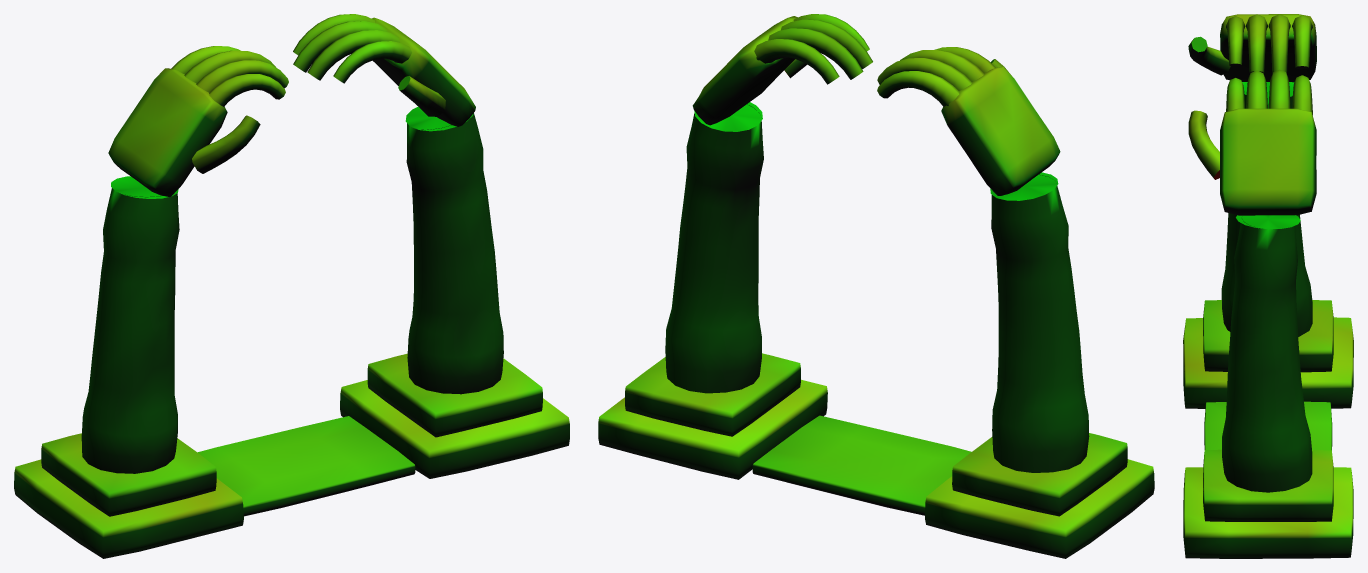
Rendered from open_hand_gate.glb.
3 views of the same model, side by side, from view 1: azimuth 30°, elevation 25°; view 2: azimuth 150°, elevation 25°; view 3: azimuth 270°, elevation 25° (orthographic). The views are drawn at different scales.
Visible parts, largest first — view 1: open_hand_gate; view 2: open_hand_gate; view 3: open_hand_gate.
Part boxes in pixels (left/top/right/bottom): open_hand_gate: left=14, top=14, right=569, bottom=558; open_hand_gate: left=598, top=14, right=1154, bottom=558; open_hand_gate: left=1183, top=14, right=1353, bottom=558.
Size of what is drawn, in the model's own units: 3.6 by 3.16 by 1.2.
